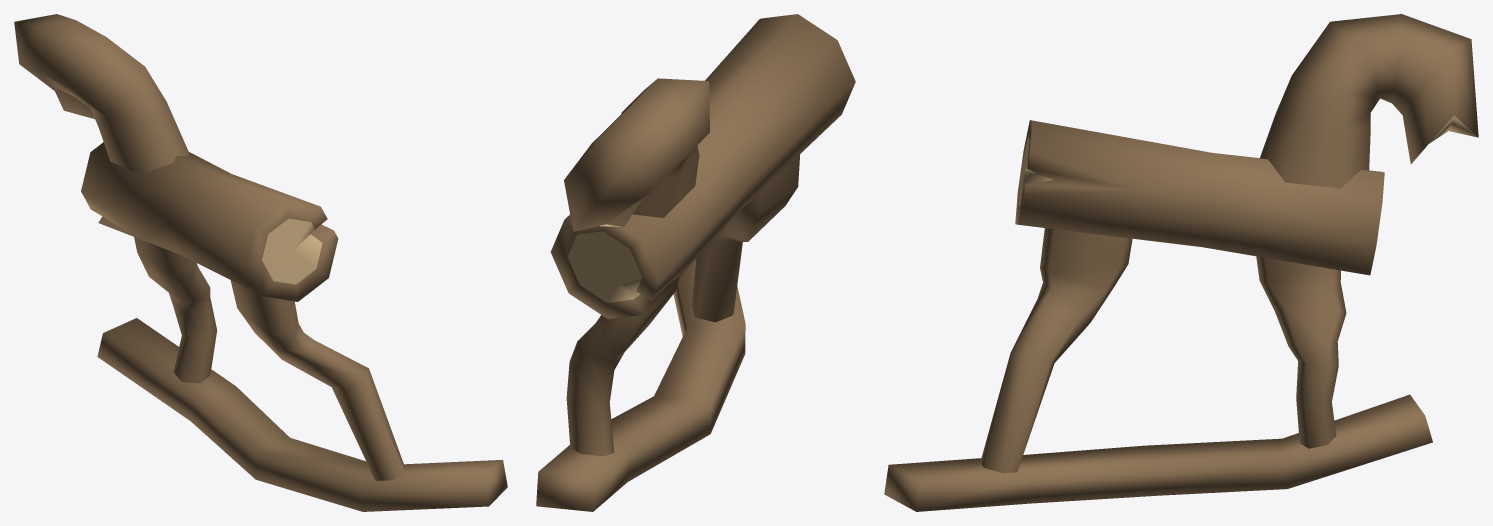
The model's file is rpgpp_av_horse_wood_01.gltf.
The picture shows the model from 3 angles, left to right: view 1: azimuth 30°, elevation 25°; view 2: azimuth 150°, elevation 25°; view 3: azimuth 270°, elevation 25°; orthographic projection. The views are drawn at different scales.
Parts seen in each view (by area): view 1: rpgpp_av_horse_wood_01; view 2: rpgpp_av_horse_wood_01; view 3: rpgpp_av_horse_wood_01.
Part boxes in pixels (left/top/right/bottom): rpgpp_av_horse_wood_01: left=14, top=14, right=507, bottom=511; rpgpp_av_horse_wood_01: left=536, top=14, right=855, bottom=511; rpgpp_av_horse_wood_01: left=884, top=14, right=1478, bottom=511.
Size of the model in its own units: 0.00528 by 0.00796 by 0.0105.
Materials: 1 (1 with a texture image).
